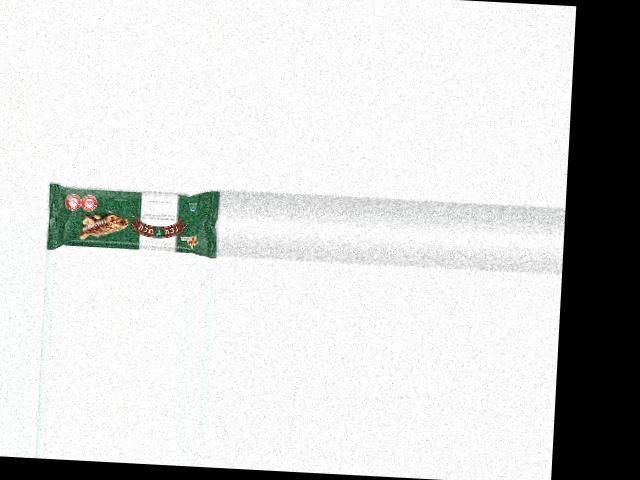chocolate: (45, 178, 222, 258)
